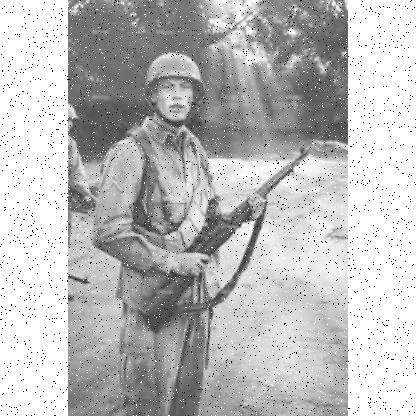gun: (124, 138, 309, 334)
